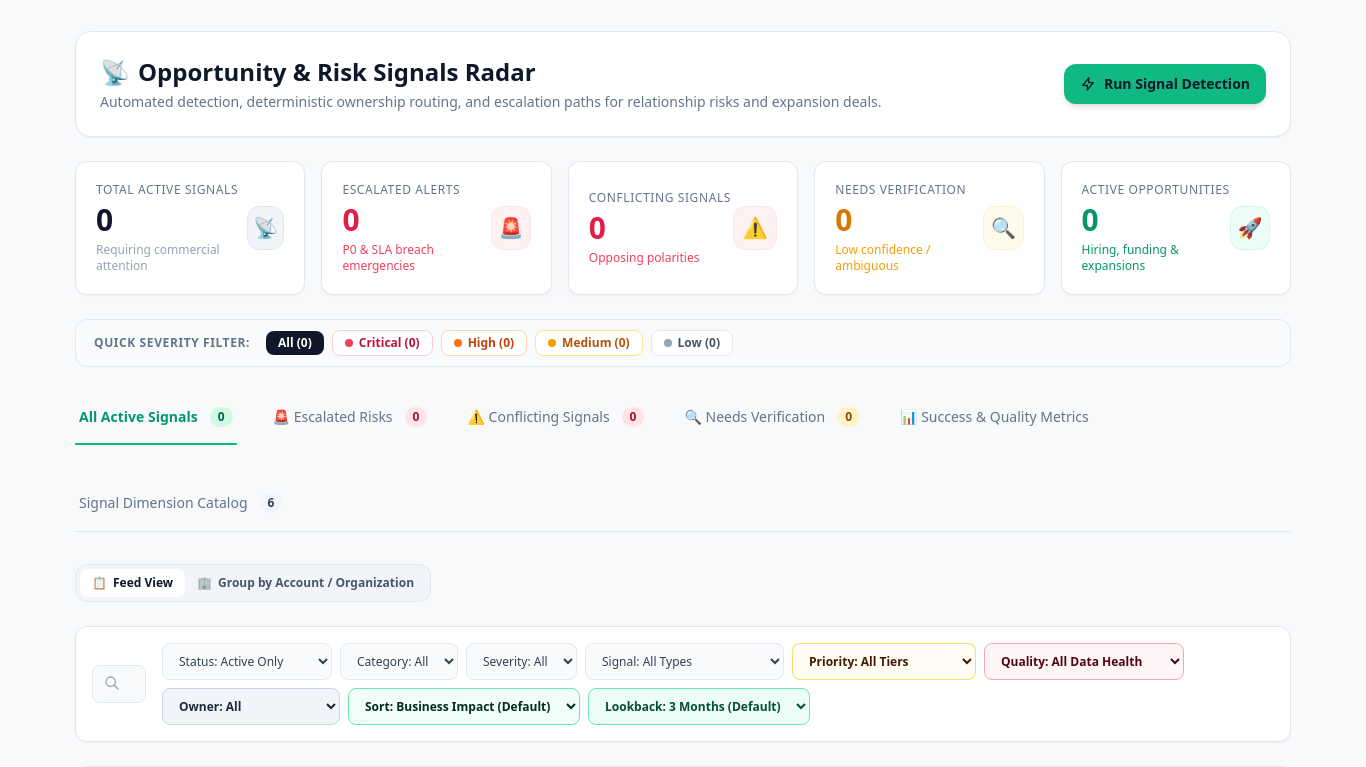
Test: SignalsPage Component › renders the Success & Quality Metrics tab with KPIs, MTTA, and breakdown tables
Expected: the text "📊 Success & Quality Metrics" is shown, [900,407,1089,427]
Switch to Metrics Tab
Click the button "📊 Success & Quality Metrics".
click(994, 418)  # box [896,391,1093,445]
(page scrolled)
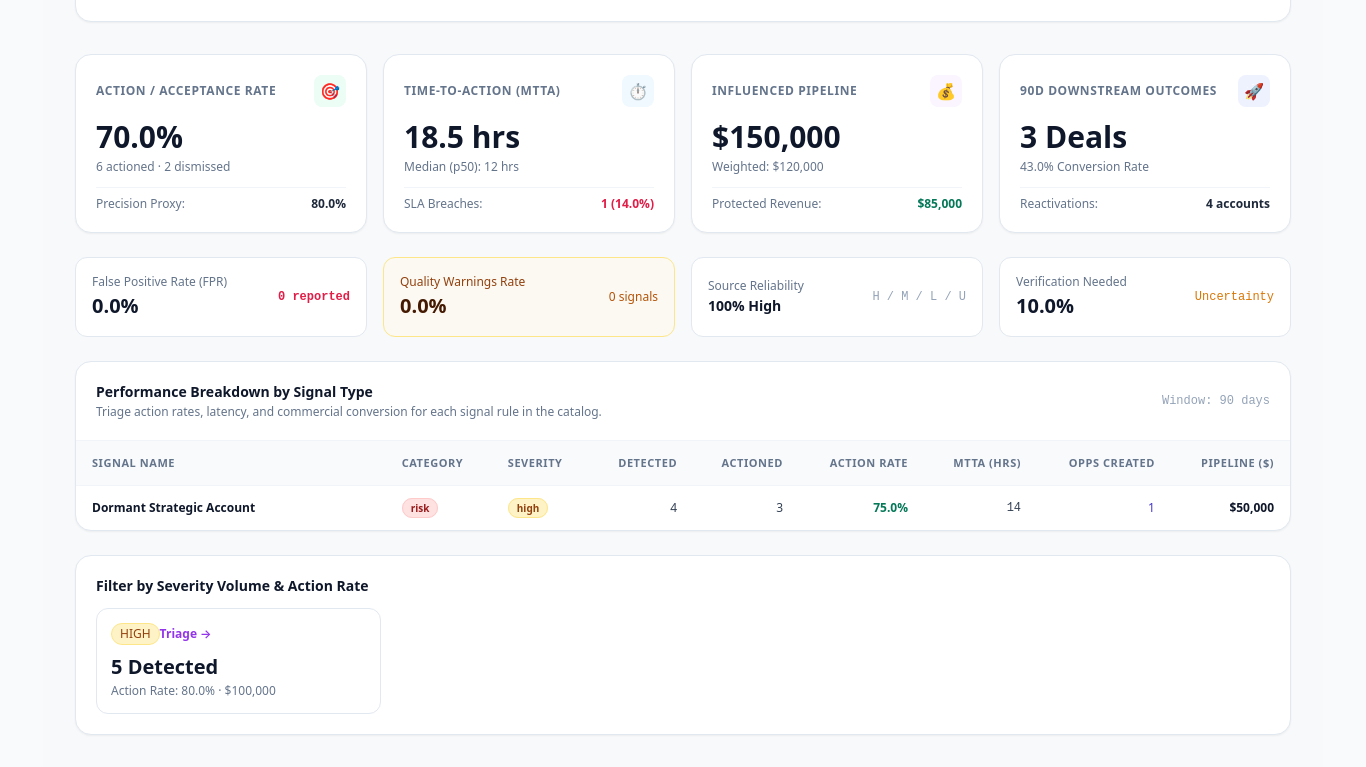
Expected: the text "70.0%" is shown, [96,116,183,157]
Expected: the text "18.5 hrs" is shown, [404,116,520,157]
Expected: the text "$150,000" is shown, [712,116,841,157]
